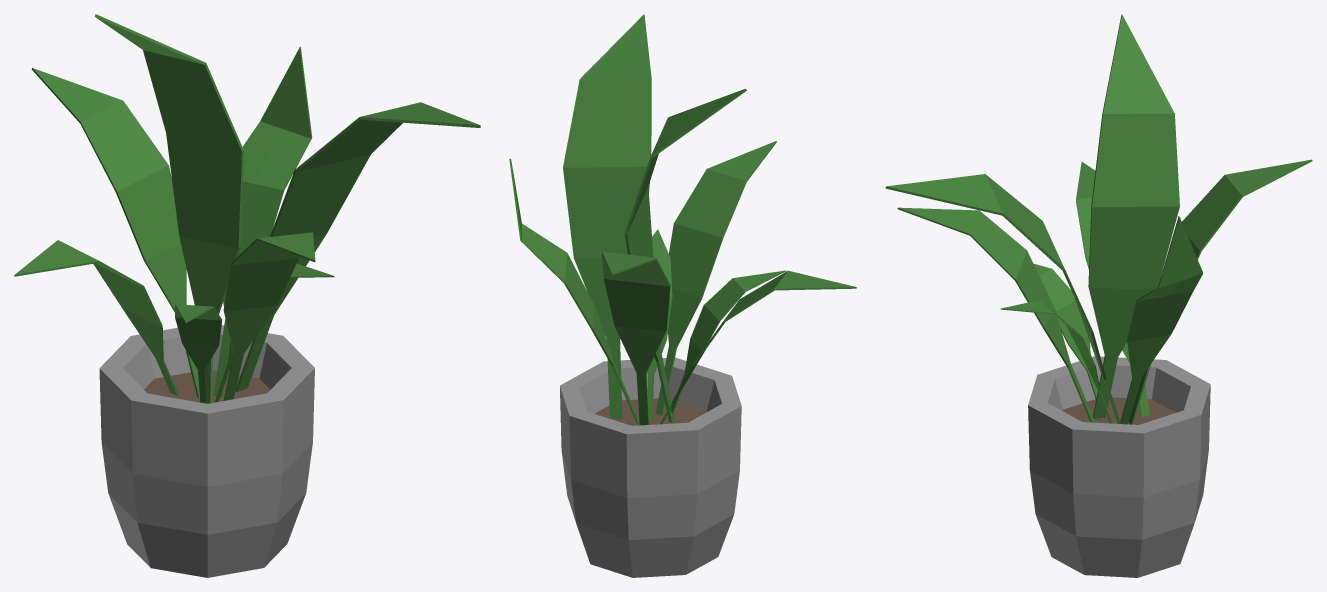
The model's file is Flower_13.fbx.
The picture shows the model from 3 angles, left to right: view 1: azimuth 30°, elevation 25°; view 2: azimuth 150°, elevation 25°; view 3: azimuth 270°, elevation 25°; orthographic projection. The views are drawn at different scales.
Parts seen in each view (by area): view 1: Flower_13; view 2: Flower_13; view 3: Flower_13.
Part boxes in pixels (box(x1,y1,x2,y2)): Flower_13: box(14, 14, 480, 577); Flower_13: box(509, 14, 856, 577); Flower_13: box(885, 14, 1312, 577).
Size of the model in its own units: 84.01 by 97.78 by 123.
